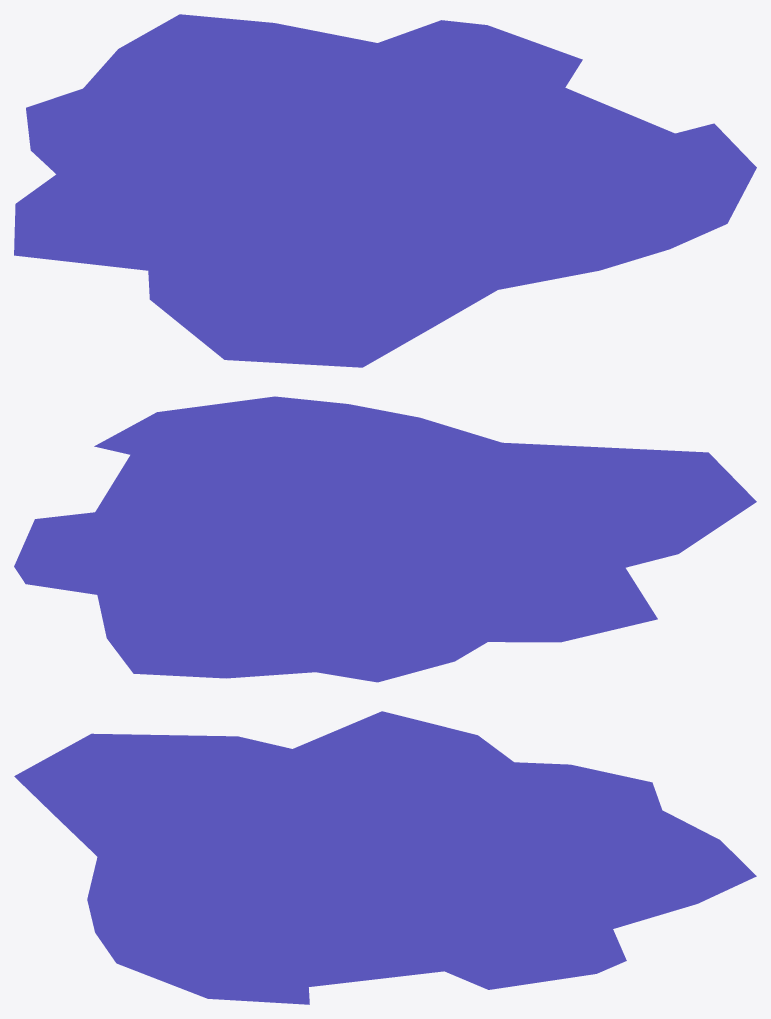
File: Stains.7.fbx
3 views of the same model, one above another, from view 1: azimuth 30°, elevation 25°; view 2: azimuth 150°, elevation 25°; view 3: azimuth 270°, elevation 25° (orthographic). The views are drawn at different scales.
Parts seen in each view (by area): view 1: Plane; view 2: Plane; view 3: Plane.
Boxes of the visible parts, <box> form: Plane: <box>14,14,756,367</box>; Plane: <box>14,396,756,682</box>; Plane: <box>14,711,756,1004</box>.
Size of the model in its own units: 99.06 by 0.000101 by 106.
